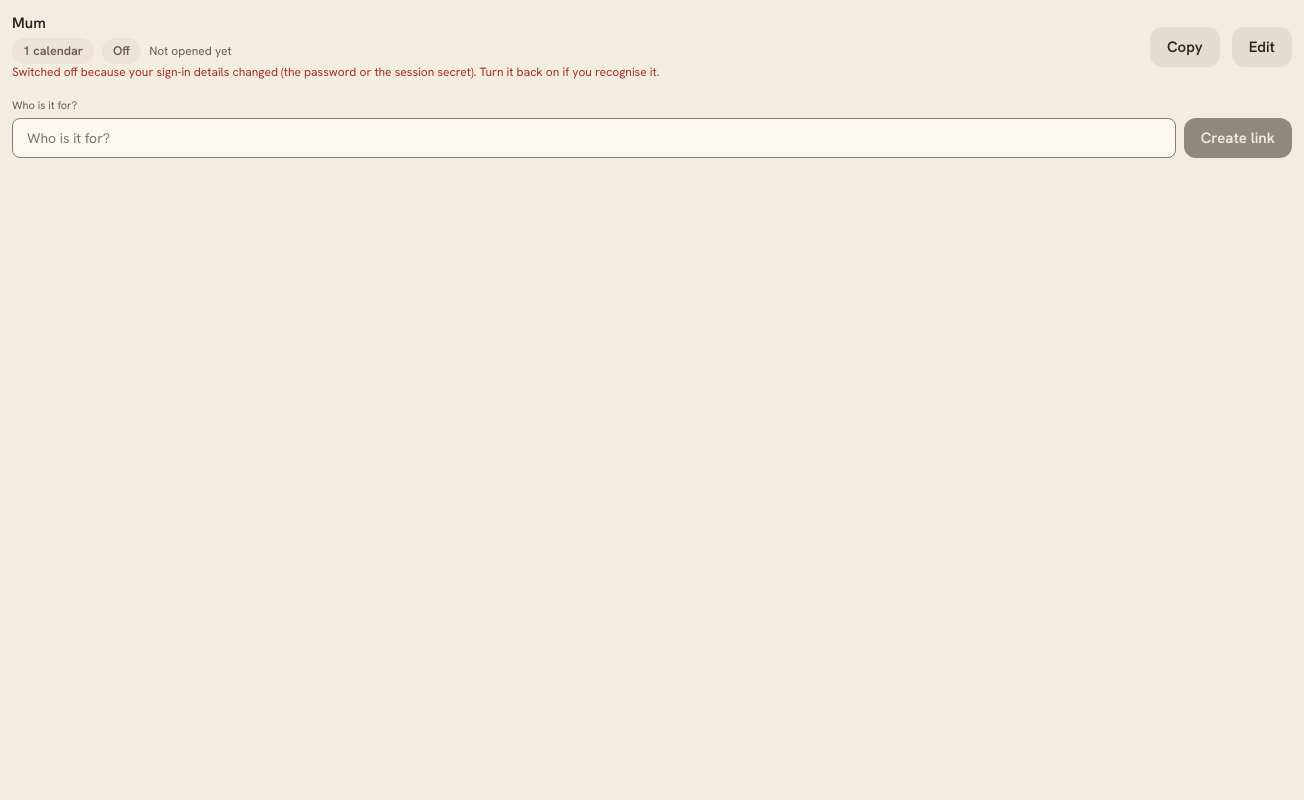
Scenario: Shares under Field notes › drops the explanations, and the title on an archived calendar
Click the button "Edit" at (1262, 46), box [1232,26,1292,66]
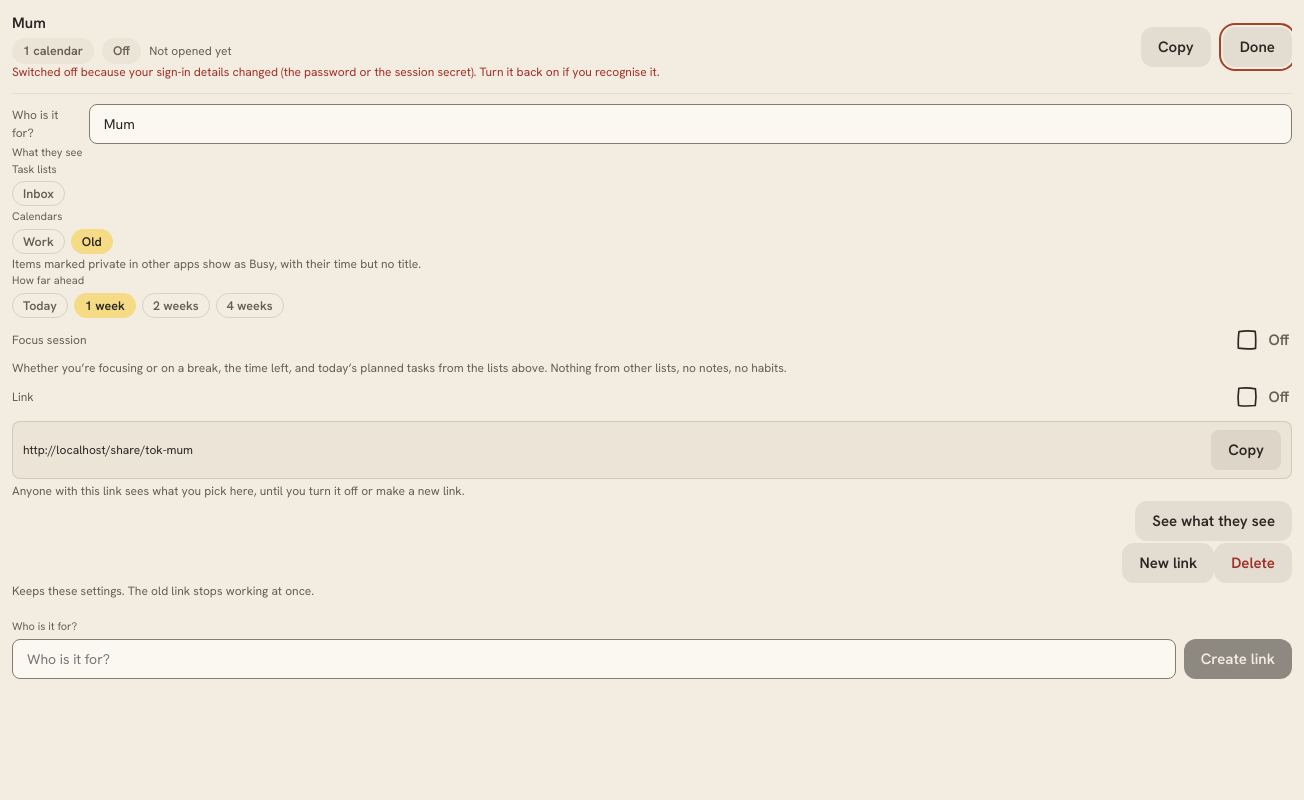
Expected: the text "Items marked private in other apps show as Busy" is shown, [12,256,421,272]
Expected: the text "Whether you’re focusing or on a break" is shown, [12,360,787,376]
